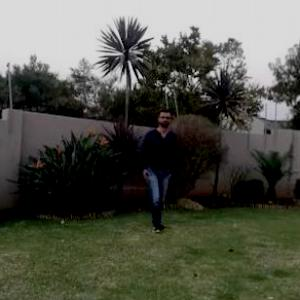follow: (142, 108, 174, 223)
